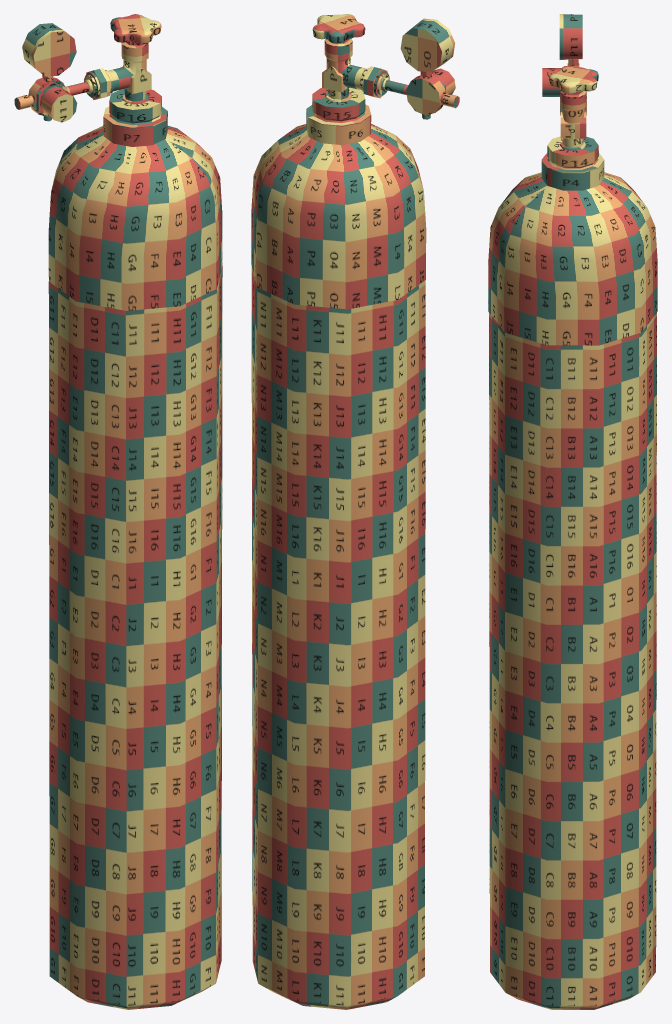
3 views of the same model, side by side, from view 1: azimuth 30°, elevation 25°; view 2: azimuth 150°, elevation 25°; view 3: azimuth 270°, elevation 25° (orthographic). The views are drawn at different scales.
Visible parts, largest first — view 1: SM_Cylinder_01b; view 2: SM_Cylinder_01b; view 3: SM_Cylinder_01b.
Boxes of the visible parts, bbox=[...] form: SM_Cylinder_01b: bbox=[14, 14, 222, 1009]; SM_Cylinder_01b: bbox=[251, 14, 459, 1009]; SM_Cylinder_01b: bbox=[488, 14, 657, 1009].
Size of the model in its own units: 25.53 by 124 by 20.61.
1 material, 1 textured.
